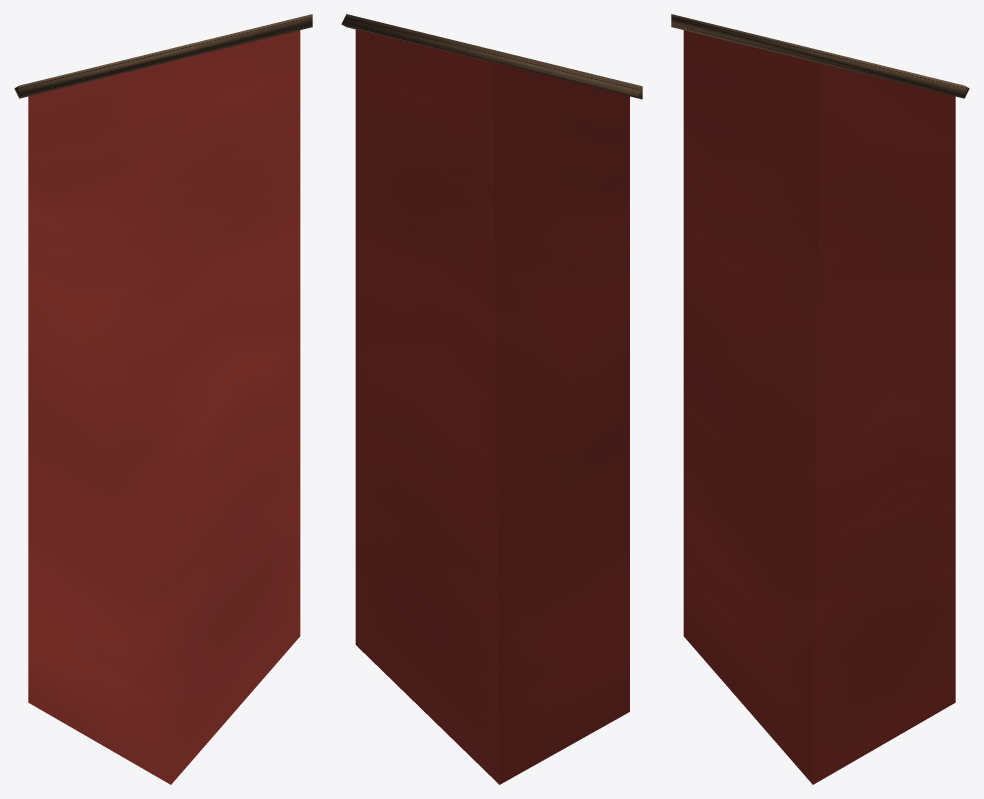
File: Banner_2_Cloth_LOD2.gltf
The picture shows the model from 3 angles, left to right: view 1: azimuth 30°, elevation 25°; view 2: azimuth 150°, elevation 25°; view 3: azimuth 330°, elevation 25°; orthographic projection.
Visible parts, largest first — view 1: Banner_2_Cloth_LOD2; view 2: Banner_2_Cloth_LOD2; view 3: Banner_2_Cloth_LOD2.
Part boxes in pixels (box(x1,y1,x2,y2)): Banner_2_Cloth_LOD2: box(14, 14, 312, 784); Banner_2_Cloth_LOD2: box(341, 14, 642, 784); Banner_2_Cloth_LOD2: box(671, 14, 969, 784).
Bounding box in the file's own units: 0.81 × 1.93 × 0.048.
2 materials, 2 textured.
